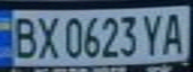0: (63, 13, 84, 60)
2: (100, 12, 121, 59)
3: (118, 12, 142, 59)
6: (81, 12, 103, 60)
A: (160, 9, 190, 55)
B: (6, 12, 39, 60)
X: (33, 12, 60, 60)
Y: (139, 10, 166, 56)
